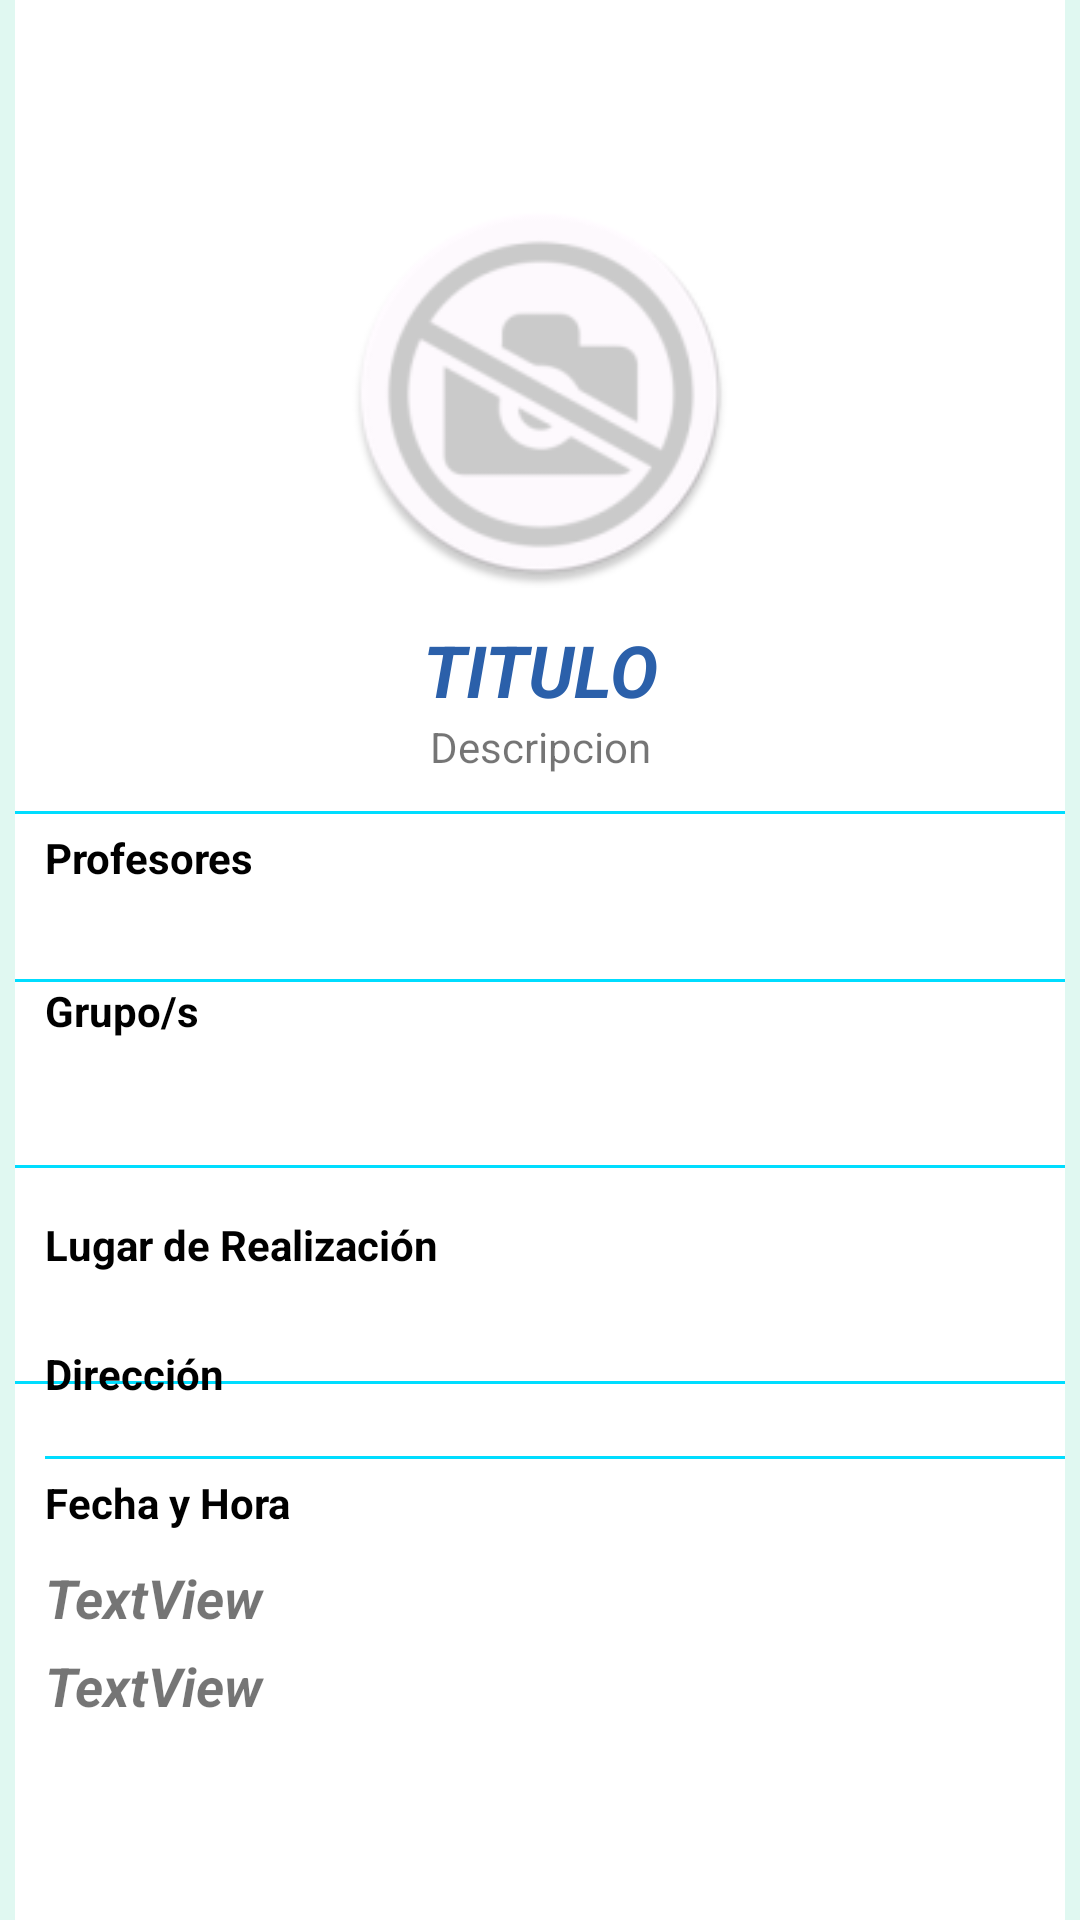

Screen size 1080px x 1920px. Icon name, then its box in pixels as (x1, y1, x2, y2):
nophoto round: (365, 242, 721, 581)
